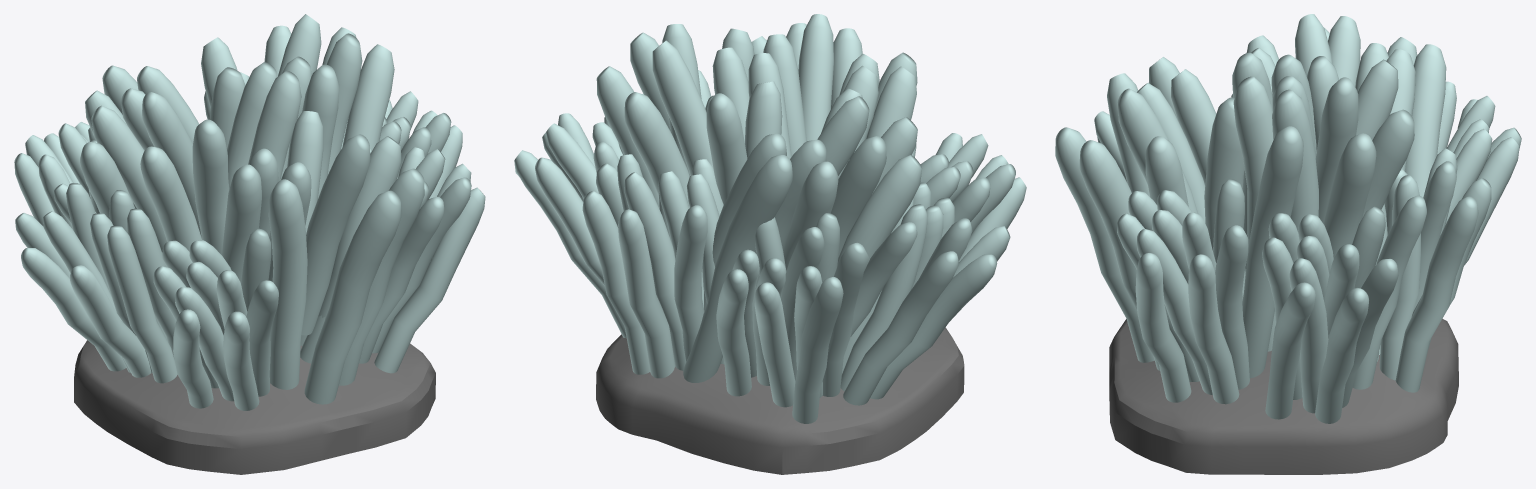
Rendered from SM_Anemone_Big.fbx.
3 renders of one model, left to right at view 1: azimuth 30°, elevation 25°; view 2: azimuth 150°, elevation 25°; view 3: azimuth 270°, elevation 25°, orthographic. The views are drawn at different scales.
Visible parts, largest first — view 1: SM_Anemone_Big; view 2: SM_Anemone_Big; view 3: SM_Anemone_Big.
Part boxes in pixels (<box>): SM_Anemone_Big: <box>14,14,485,474</box>; SM_Anemone_Big: <box>514,14,1026,474</box>; SM_Anemone_Big: <box>1055,14,1521,474</box>.
Size of the model in its own units: 283 by 211 by 242.
